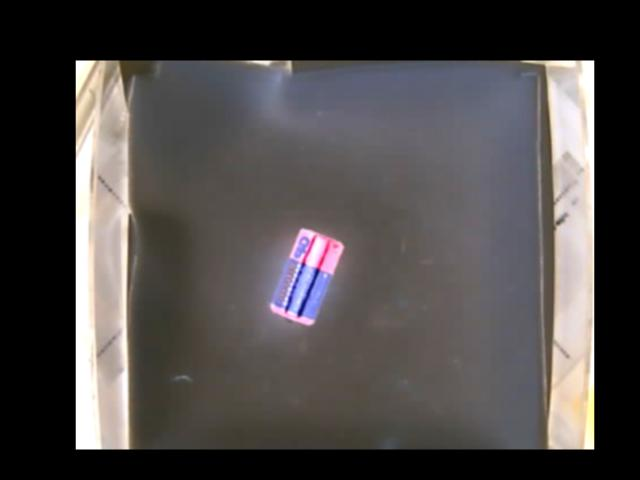Battery: (270, 228, 345, 326)
